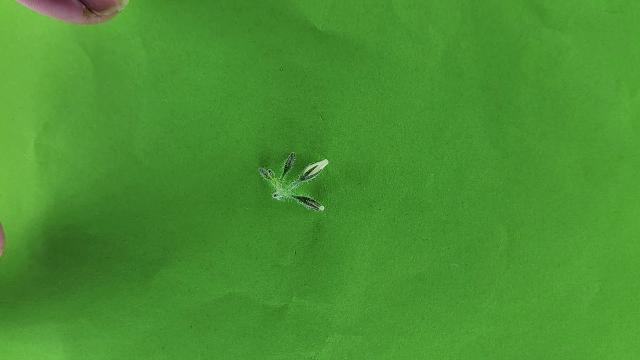Flower Bud: (294, 158, 329, 185), (291, 195, 325, 211), (283, 151, 295, 177), (259, 167, 268, 178)
